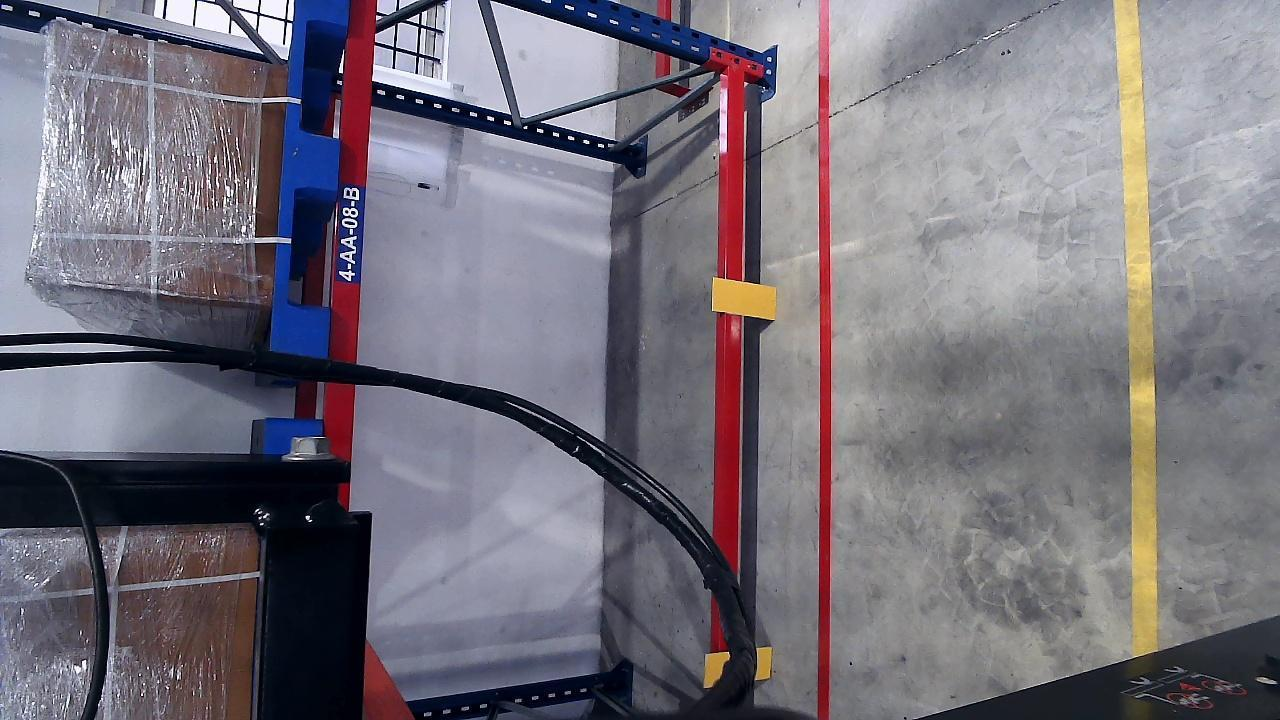red_line: (813, 6, 836, 720)
yellow_line: (1114, 0, 1159, 645)
